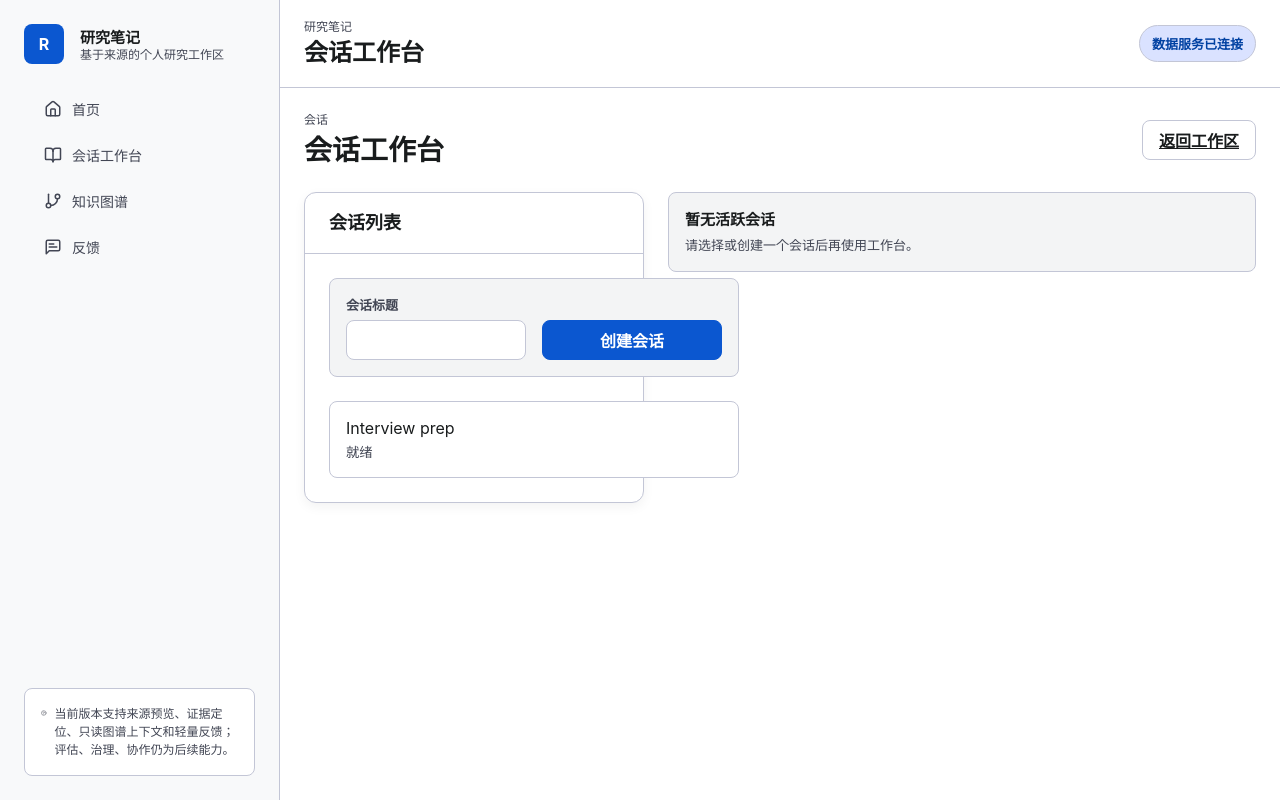
会话工作台 smoke › opens EvidenceSpan navigation from a jumpable session citation
The width and height of the screenshot is (1280, 800).
Click the button "Interview prep 就绪" at {"x": 400, "y": 428}, box [329, 401, 739, 478]
(page scrolled)
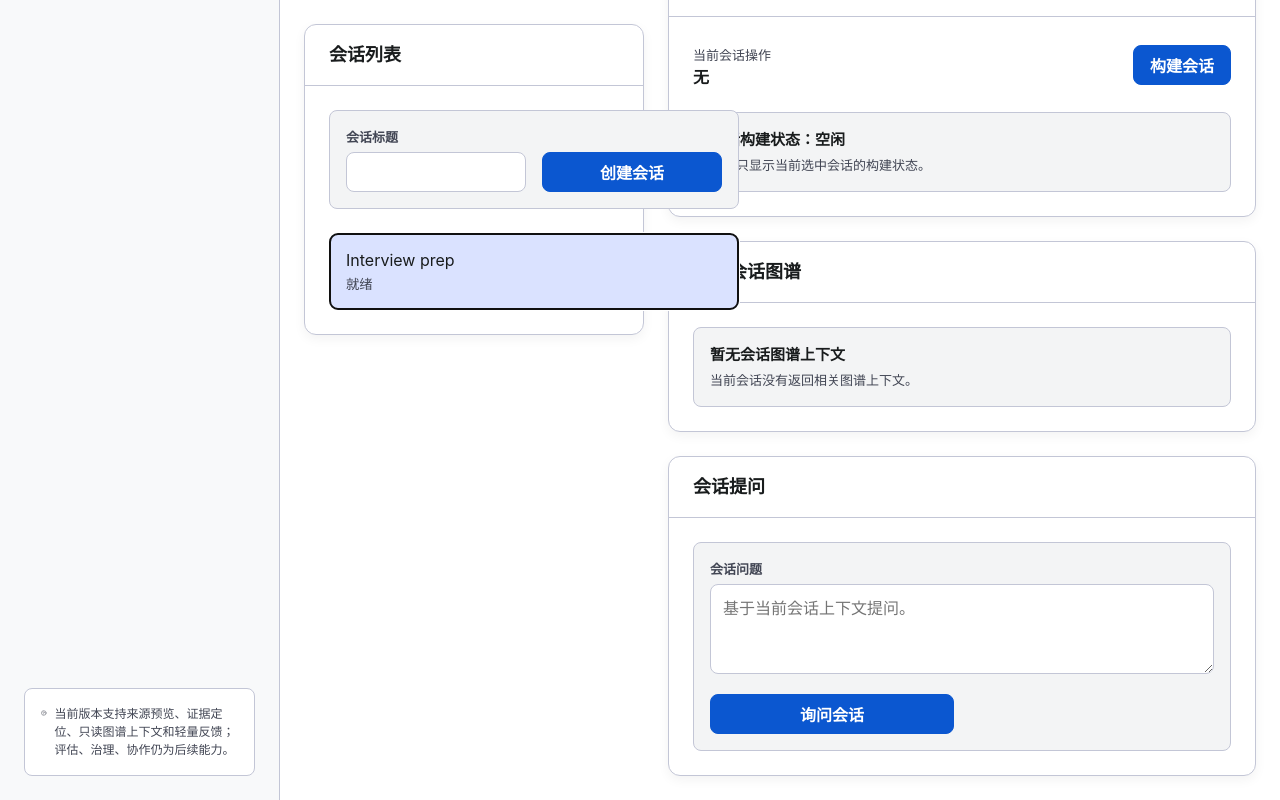
Type "What identifiers should session precise navigation preserve?" into the text box labelled "会话问题" at {"x": 962, "y": 629}, box [710, 584, 1214, 674]
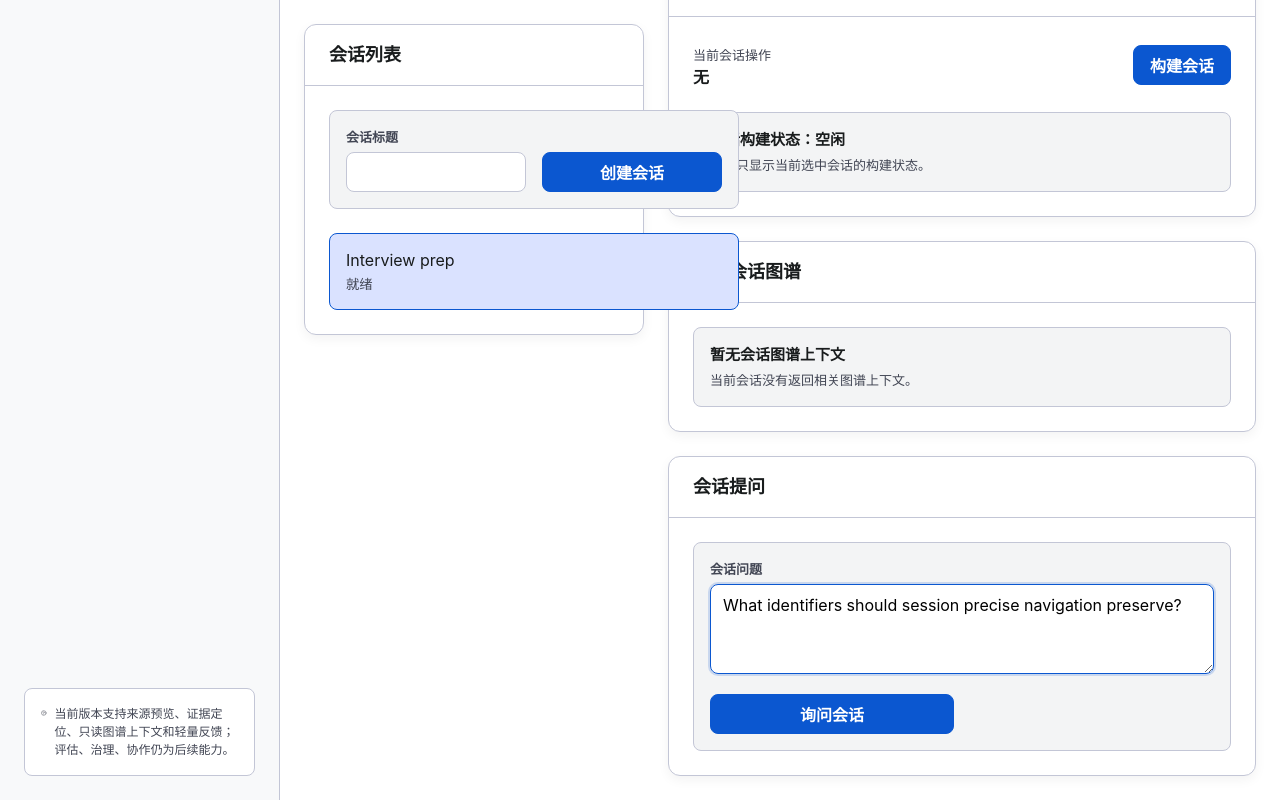
Click the button "询问会话" at {"x": 832, "y": 714}, box [710, 694, 954, 734]
(page scrolled)
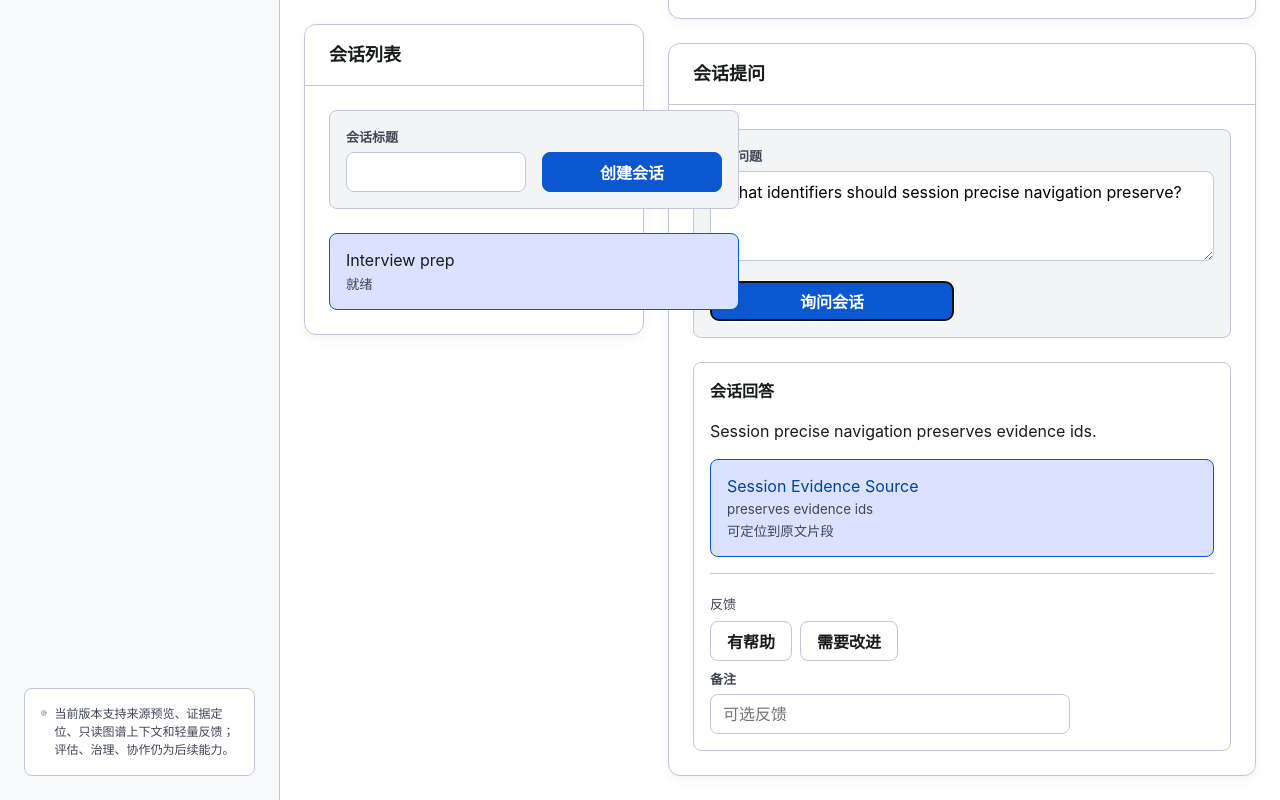
Result: the text "Session precise navigation preserves evidence ids." is shown at [710, 421, 1097, 441]
Click the button with test id "jumpable-evidence-citation" at {"x": 823, "y": 486}, box [710, 459, 1214, 557]
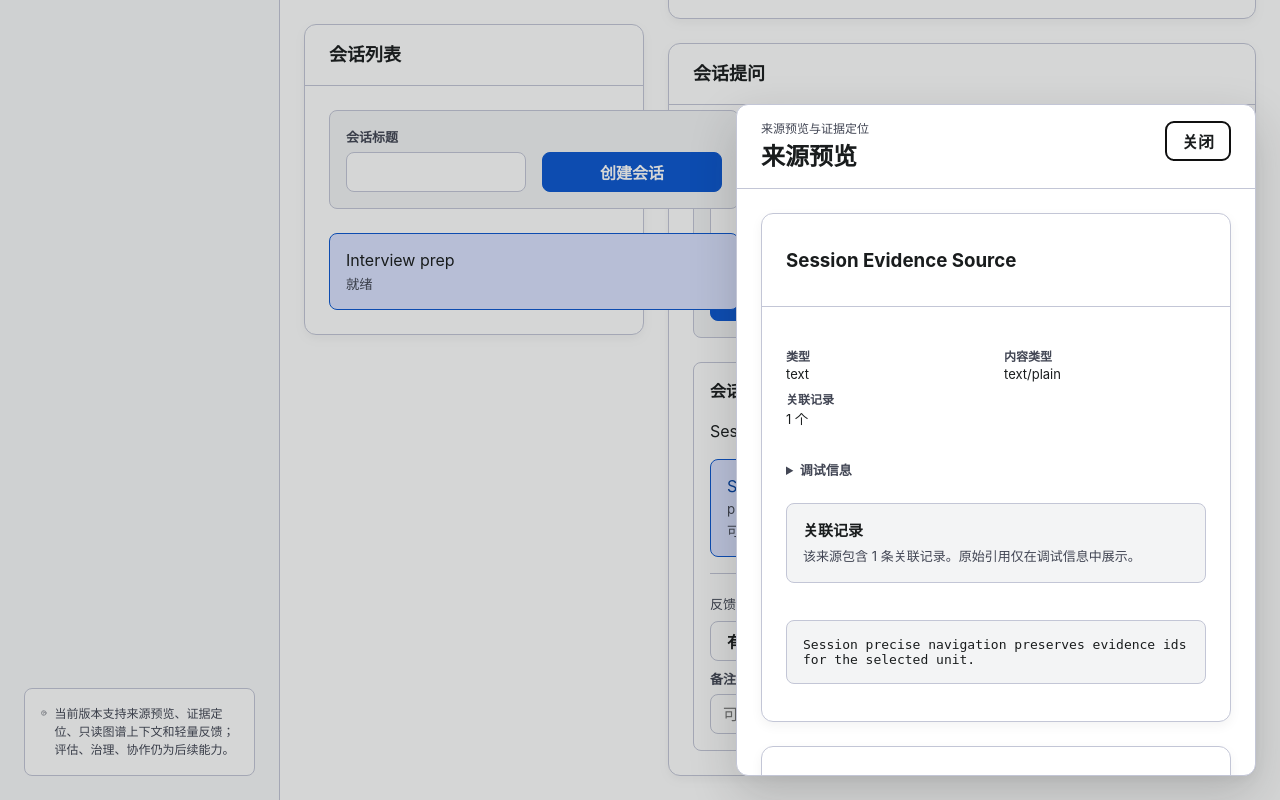
Result: the text "Session precise navigation preserves evidence ids." is shown at [710, 421, 1097, 441]
Result: the dialog with test id "source-preview-drawer" is shown at [736, 104, 1256, 776]
Result: the heading "调试信息" is shown at [800, 462, 852, 478]
